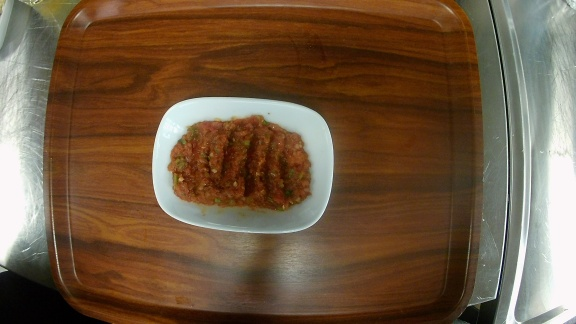acilimeze: (152, 96, 335, 232)
